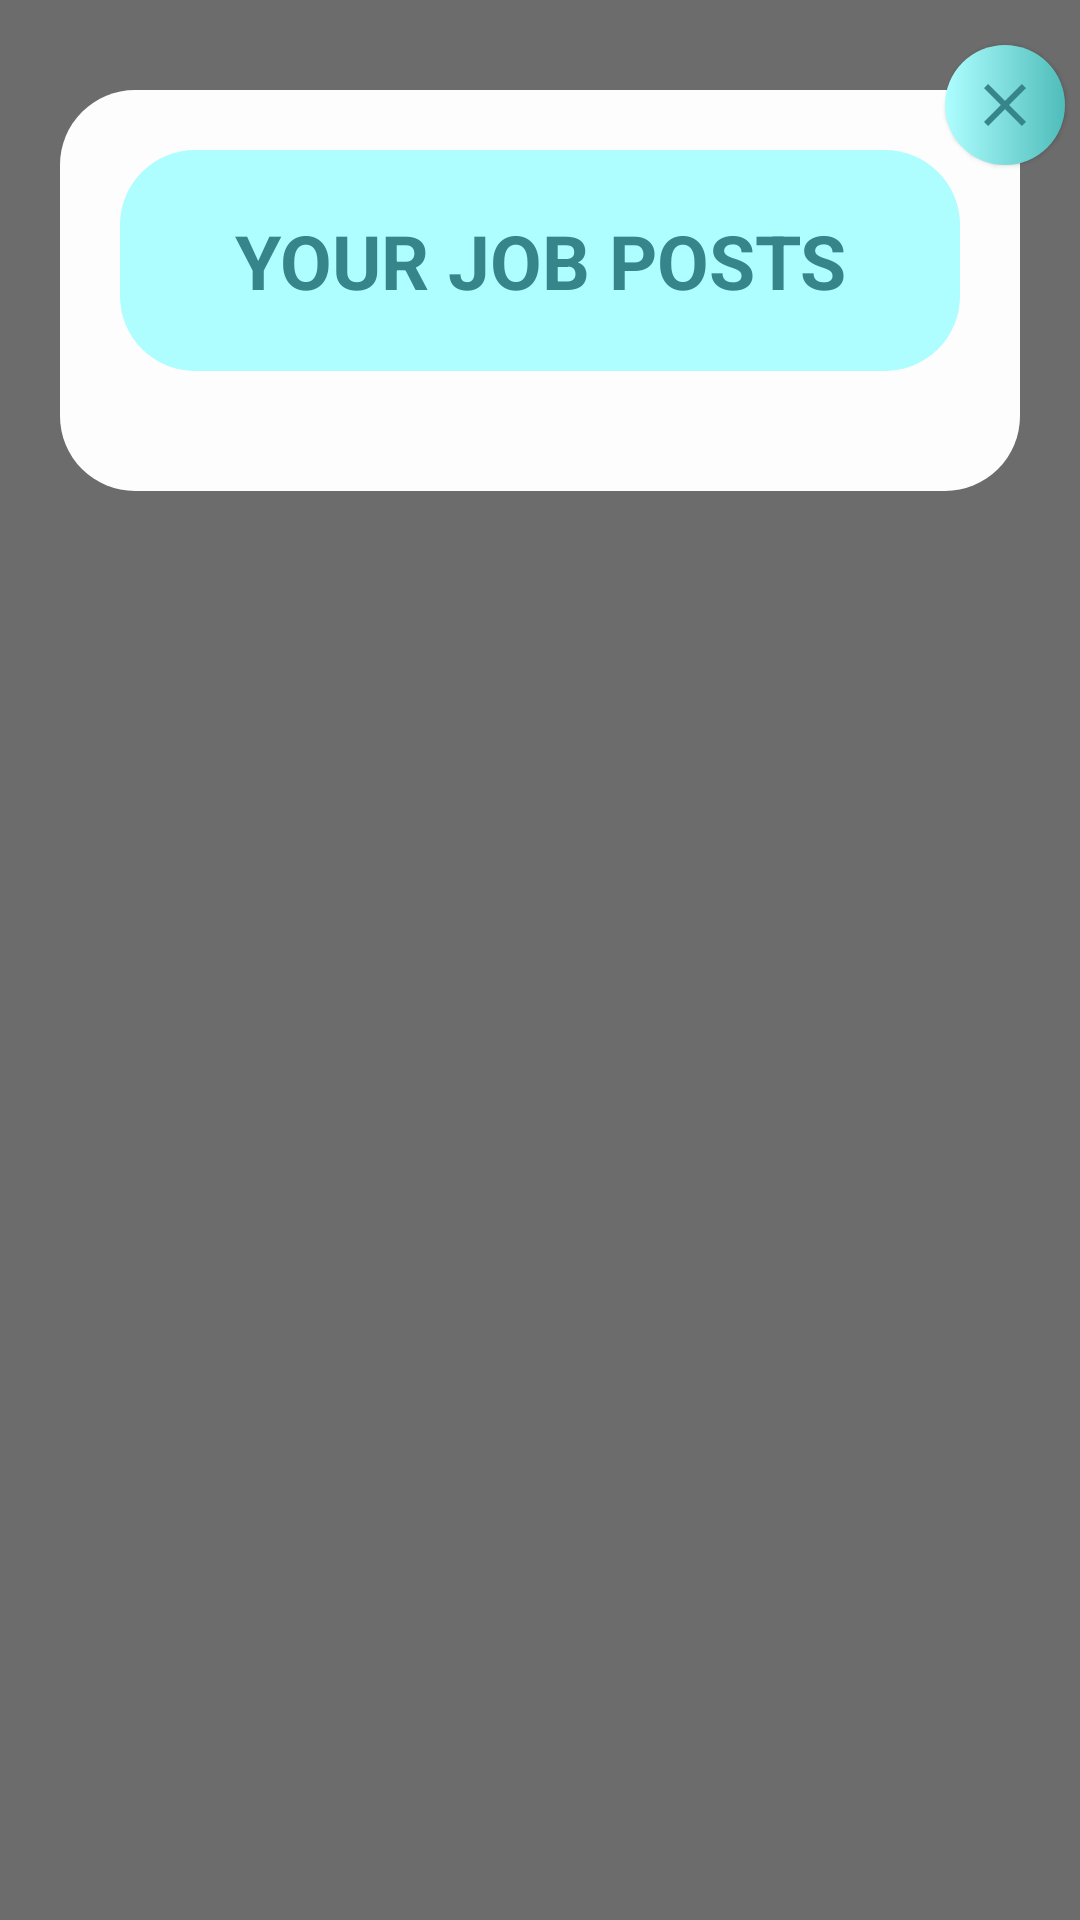

Icons on this 1080px x 1920px Android screen, each with the point to tap as [x,y]:
close: [1005,105]
